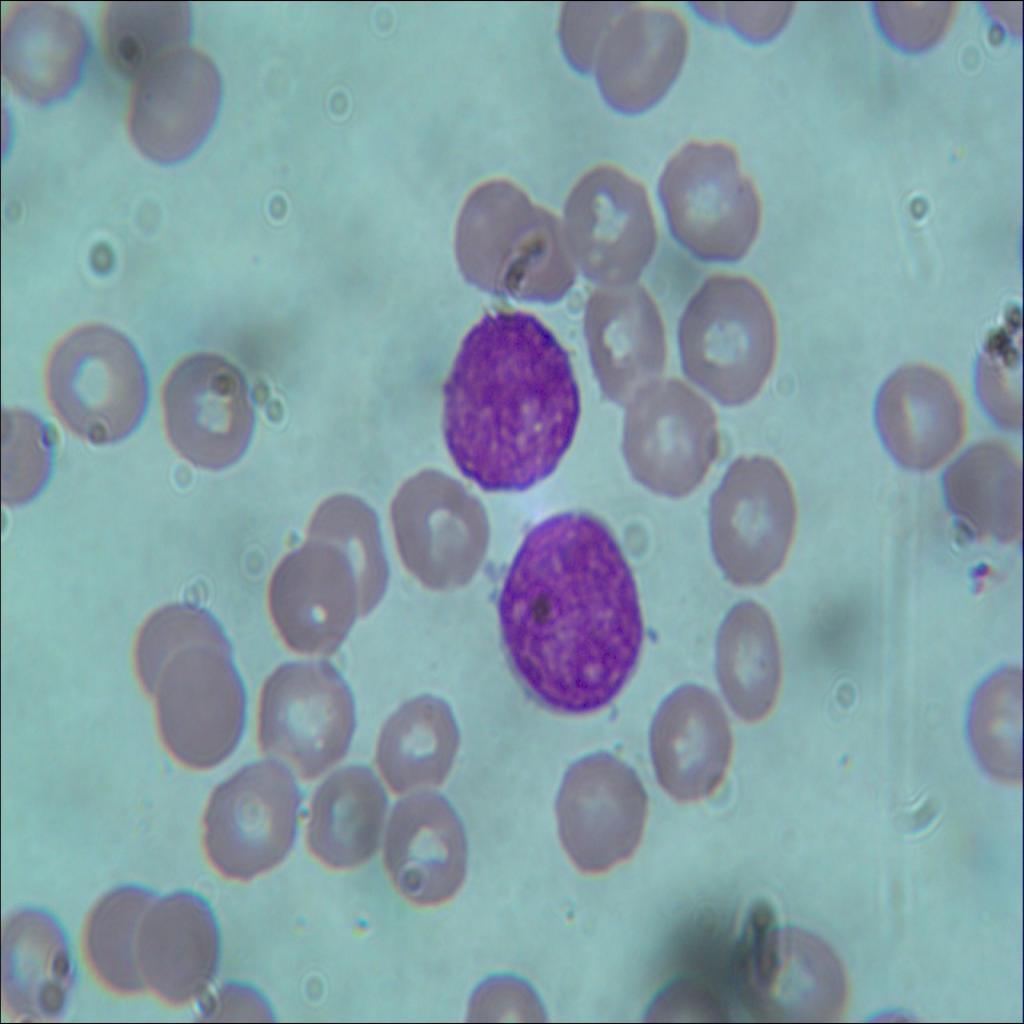Eritrosit: (542, 738, 650, 885), (44, 314, 150, 450), (158, 343, 260, 479), (681, 264, 773, 408), (709, 451, 799, 595), (198, 754, 299, 882), (394, 465, 488, 601), (258, 650, 356, 778), (302, 484, 386, 625), (666, 136, 755, 264), (624, 379, 716, 501), (128, 45, 223, 162), (868, 354, 962, 472), (156, 645, 246, 768), (562, 158, 655, 277), (134, 592, 235, 701), (381, 779, 469, 901), (266, 538, 355, 658), (708, 594, 784, 731), (580, 275, 662, 398), (593, 1, 679, 118), (642, 685, 730, 799), (140, 882, 218, 1007), (2, 0, 92, 108), (452, 174, 532, 293), (378, 690, 462, 799), (84, 884, 164, 995), (950, 437, 1024, 554), (0, 908, 74, 1018), (495, 204, 575, 304), (99, 0, 196, 82), (310, 762, 381, 874), (961, 660, 1023, 781)
Limfoblast: (489, 502, 648, 724), (442, 305, 579, 495)
